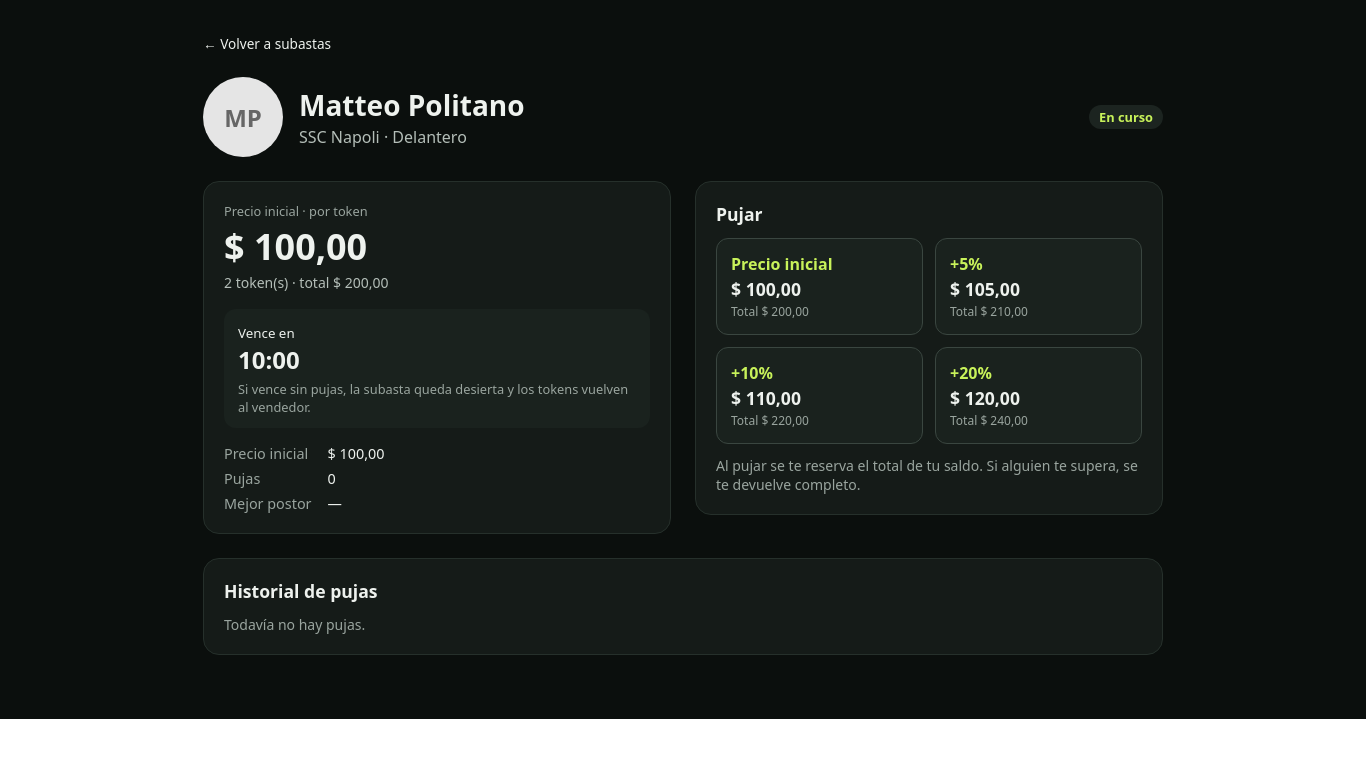
SubastaDetailPage › un postor ve las opciones con el precio que calcula el backend y puja con el porcentaje elegido
Expected: the button "Precio inicial $ 100,00 Total $ 200,00" is shown, [716,238,923,335]
Click the button "+10% $ 110,00 Total $ 220,00" at (820, 396), box [716,347,923,444]
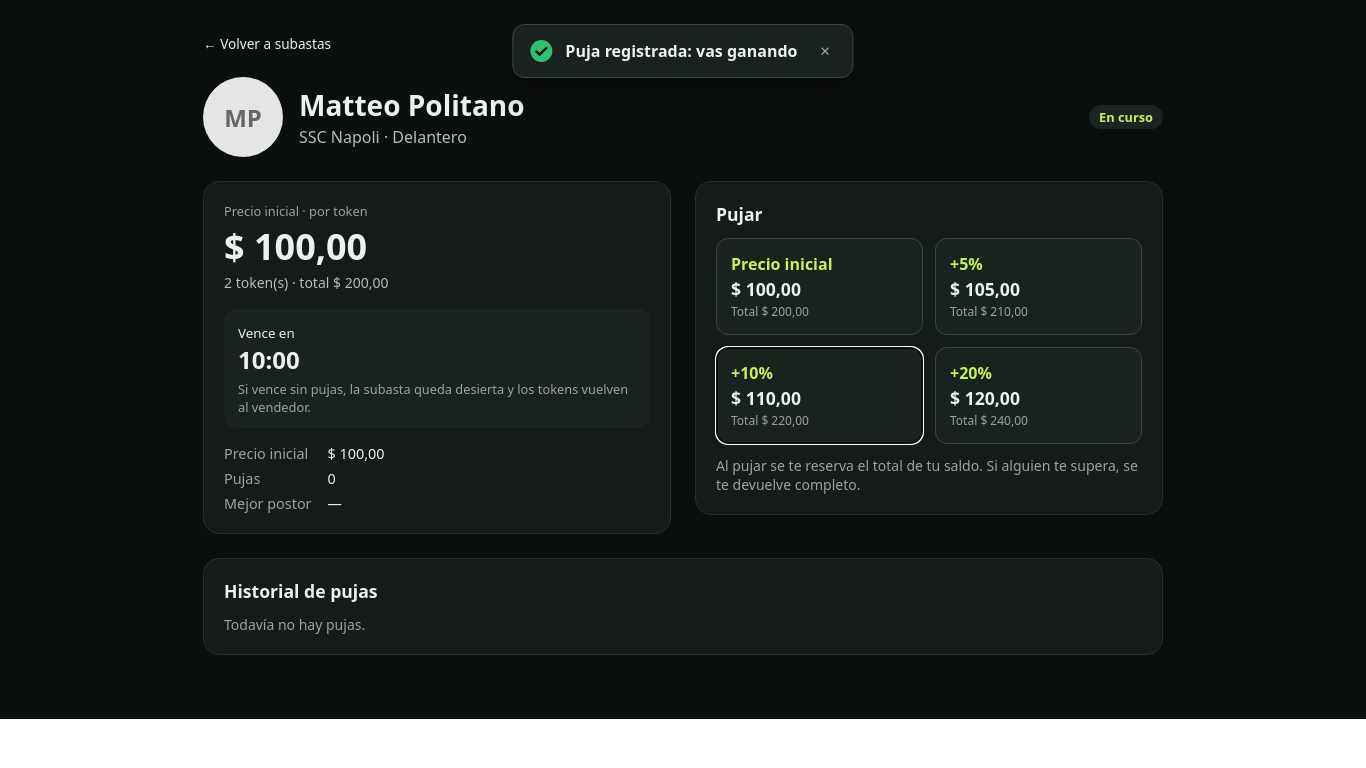
Expected: the message shows "Puja registrada", [565,40,798,62]
